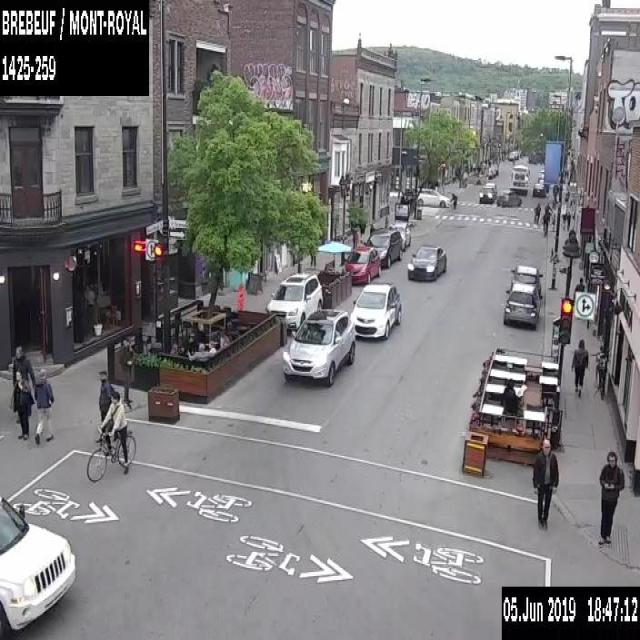bus: (511, 164, 529, 194)
construction: (236, 288, 244, 310)
cyclist: (85, 388, 137, 481), (542, 210, 550, 233), (532, 199, 540, 222), (449, 190, 457, 210), (544, 202, 552, 215)
pedestrian: (596, 448, 624, 545), (530, 438, 559, 530), (32, 366, 55, 442), (11, 344, 33, 419), (9, 368, 30, 442), (569, 338, 589, 398), (96, 371, 115, 424), (119, 338, 133, 407), (501, 378, 520, 422), (594, 344, 606, 400), (186, 341, 214, 361), (561, 204, 571, 229), (85, 283, 95, 305), (572, 274, 584, 290), (309, 252, 316, 268), (208, 341, 216, 354)
vehicle: (0, 492, 75, 638), (283, 308, 353, 385), (264, 270, 324, 332), (351, 283, 401, 340), (502, 283, 543, 329), (406, 242, 446, 282), (364, 226, 402, 268), (343, 246, 379, 284), (508, 264, 542, 302), (415, 186, 450, 206), (496, 188, 521, 206), (477, 186, 495, 203), (532, 182, 546, 197), (0, 601, 2, 639)
